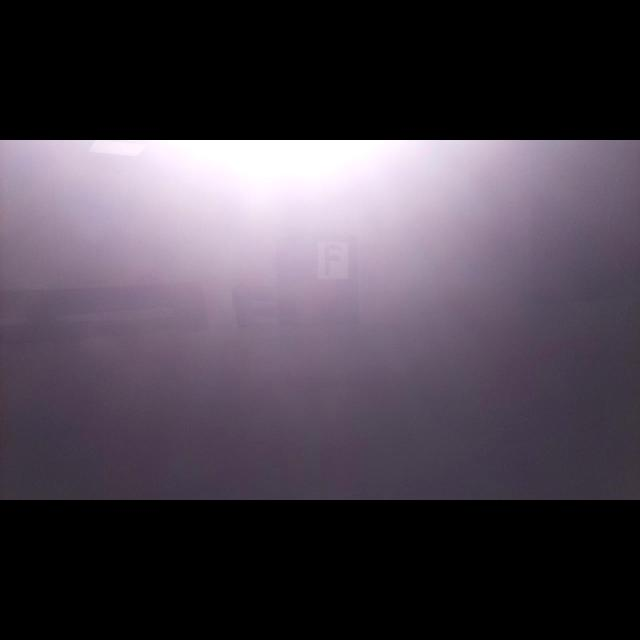F: (325, 244, 341, 275)
